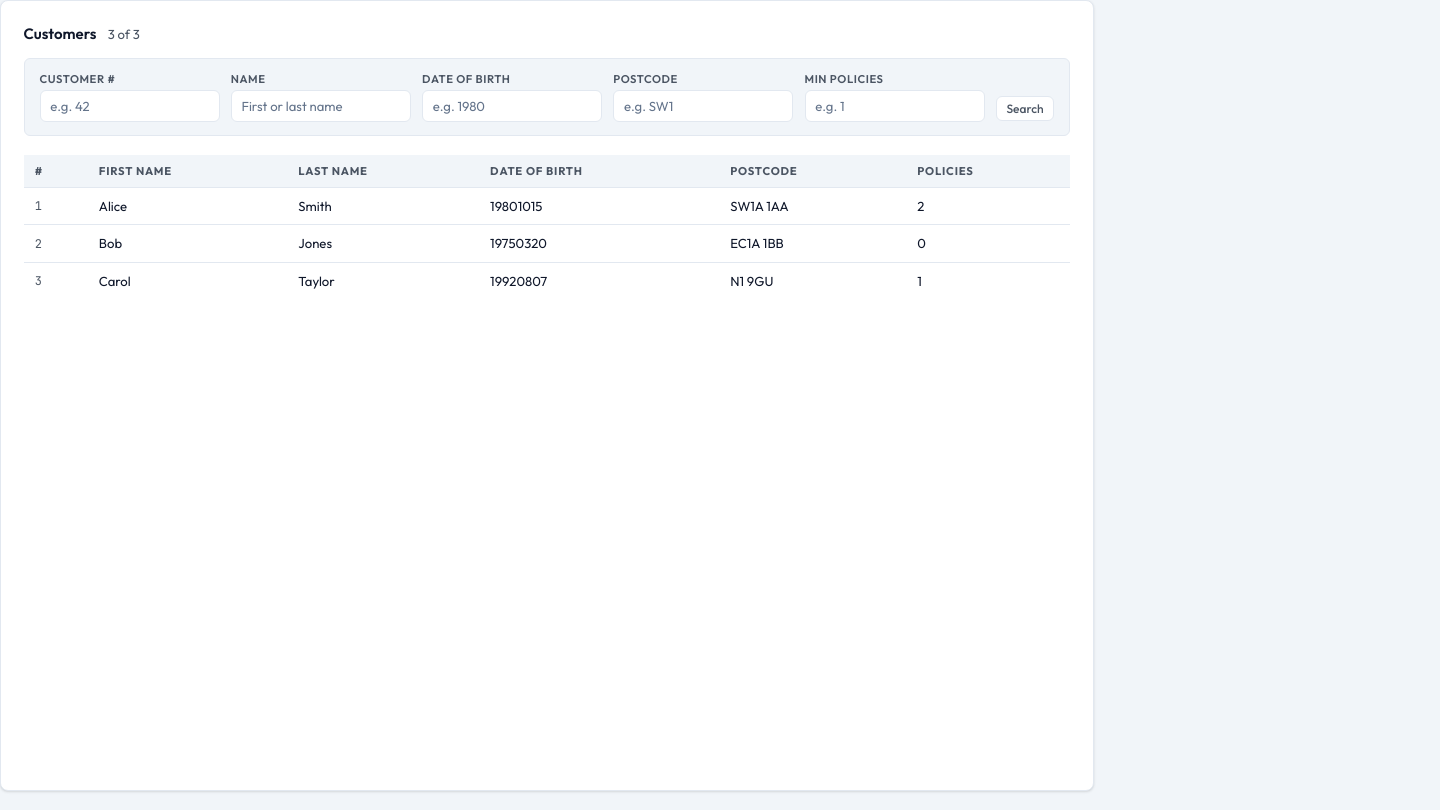
Test case: CustomerList – filters › shows Clear button when a filter is active and clears on click
Type "alice" into the field labelled "Name" at {"x": 321, "y": 106}, box left=231, top=90, right=411, bottom=122
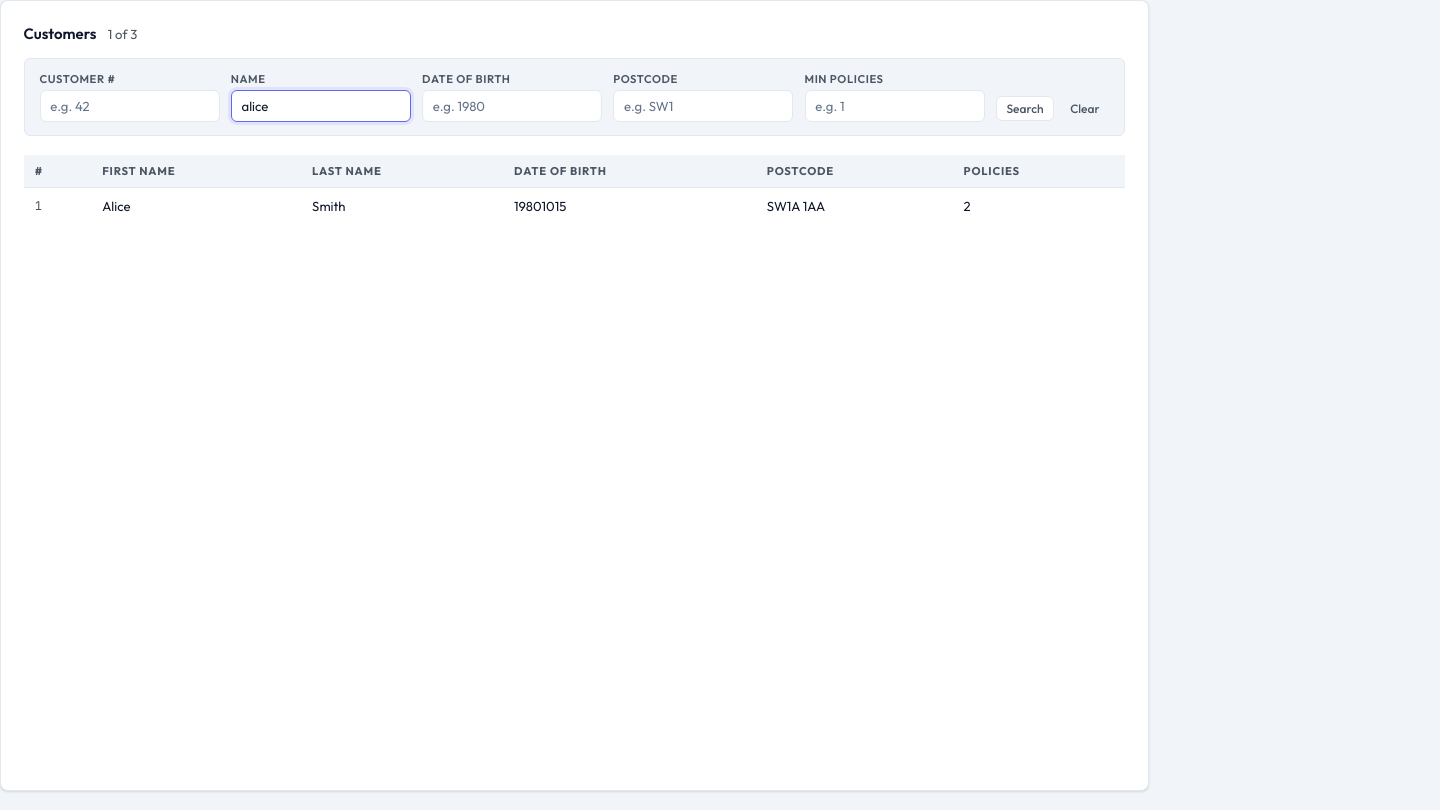
expect the button "Clear" is shown: met
Click the button "Clear" at {"x": 1085, "y": 108}, box left=1060, top=96, right=1109, bottom=121
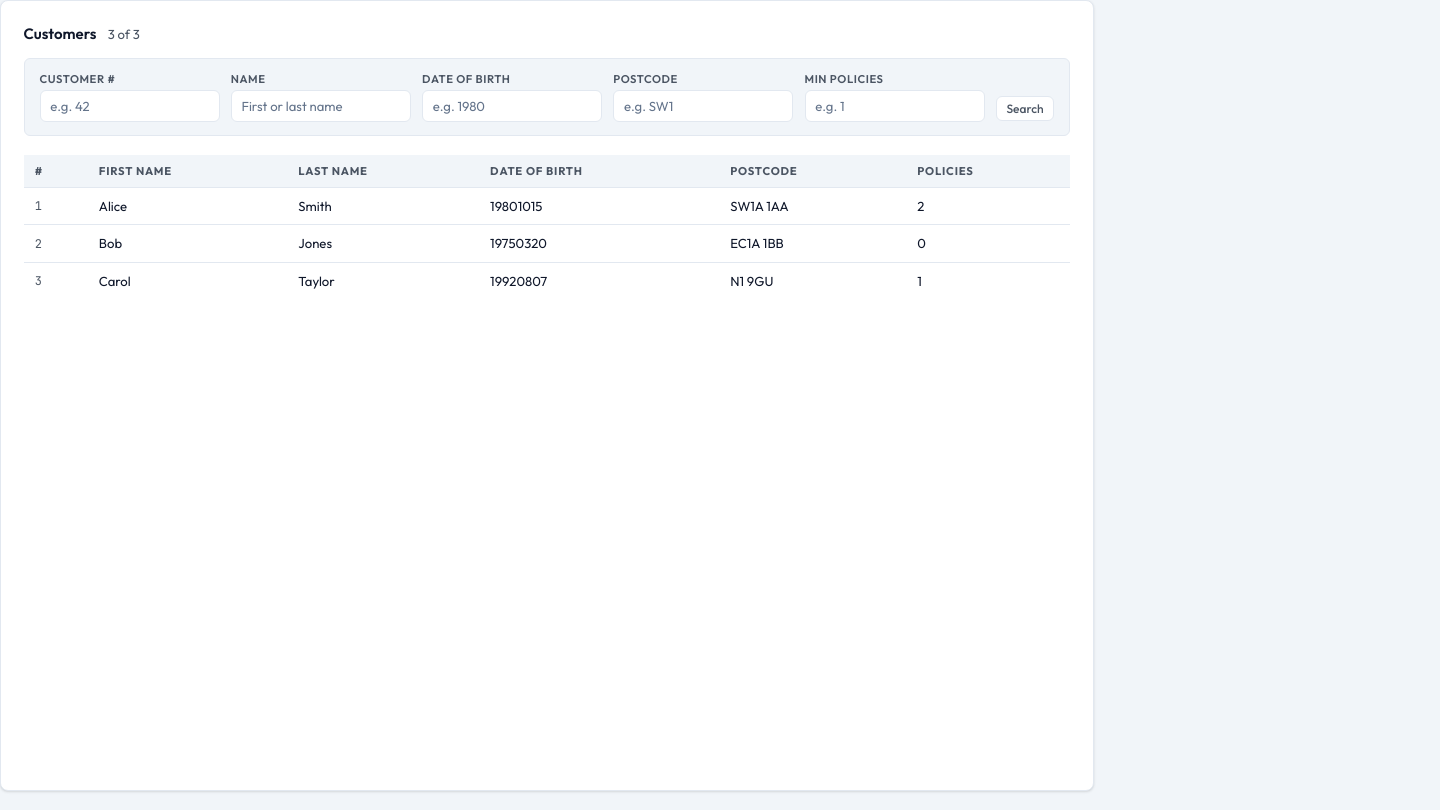
expect the text "Bob" is shown: met, box left=88, top=224, right=287, bottom=262
